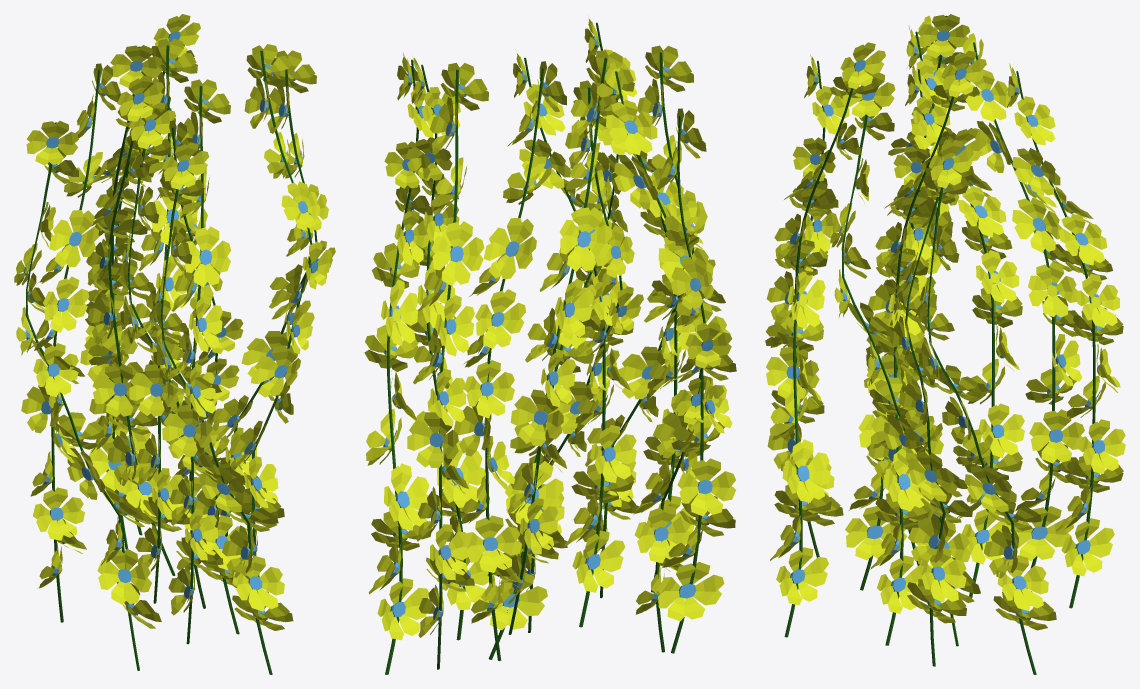
The model's file is Flor.fbx.
The picture shows the model from 3 angles, left to right: view 1: azimuth 30°, elevation 25°; view 2: azimuth 150°, elevation 25°; view 3: azimuth 270°, elevation 25°; orthographic projection. The views are drawn at different scales.
Parts seen in each view (by area): view 1: Flores; view 2: Flores; view 3: Flores.
Part boxes in pixels (bbox=[...]): Flores: bbox=[14, 14, 335, 674]; Flores: bbox=[364, 18, 736, 674]; Flores: bbox=[765, 14, 1125, 674].
Bounding box in the file's own units: 21.58 × 36.25 × 20.43.
